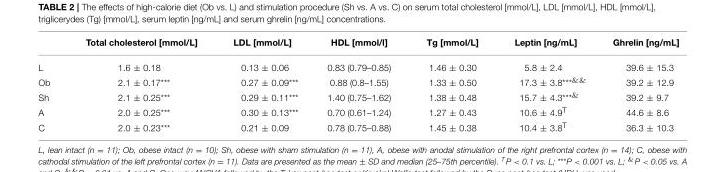table: (37, 37, 678, 132)
table column: (67, 37, 214, 132), (495, 37, 598, 132), (214, 37, 312, 132), (312, 37, 407, 132), (407, 37, 495, 132), (598, 37, 678, 132), (37, 37, 67, 132)
table column header: (37, 37, 678, 54)
table row: (37, 54, 678, 73), (37, 37, 678, 54), (37, 73, 678, 89), (37, 103, 678, 118), (37, 89, 678, 103), (37, 118, 678, 132)
